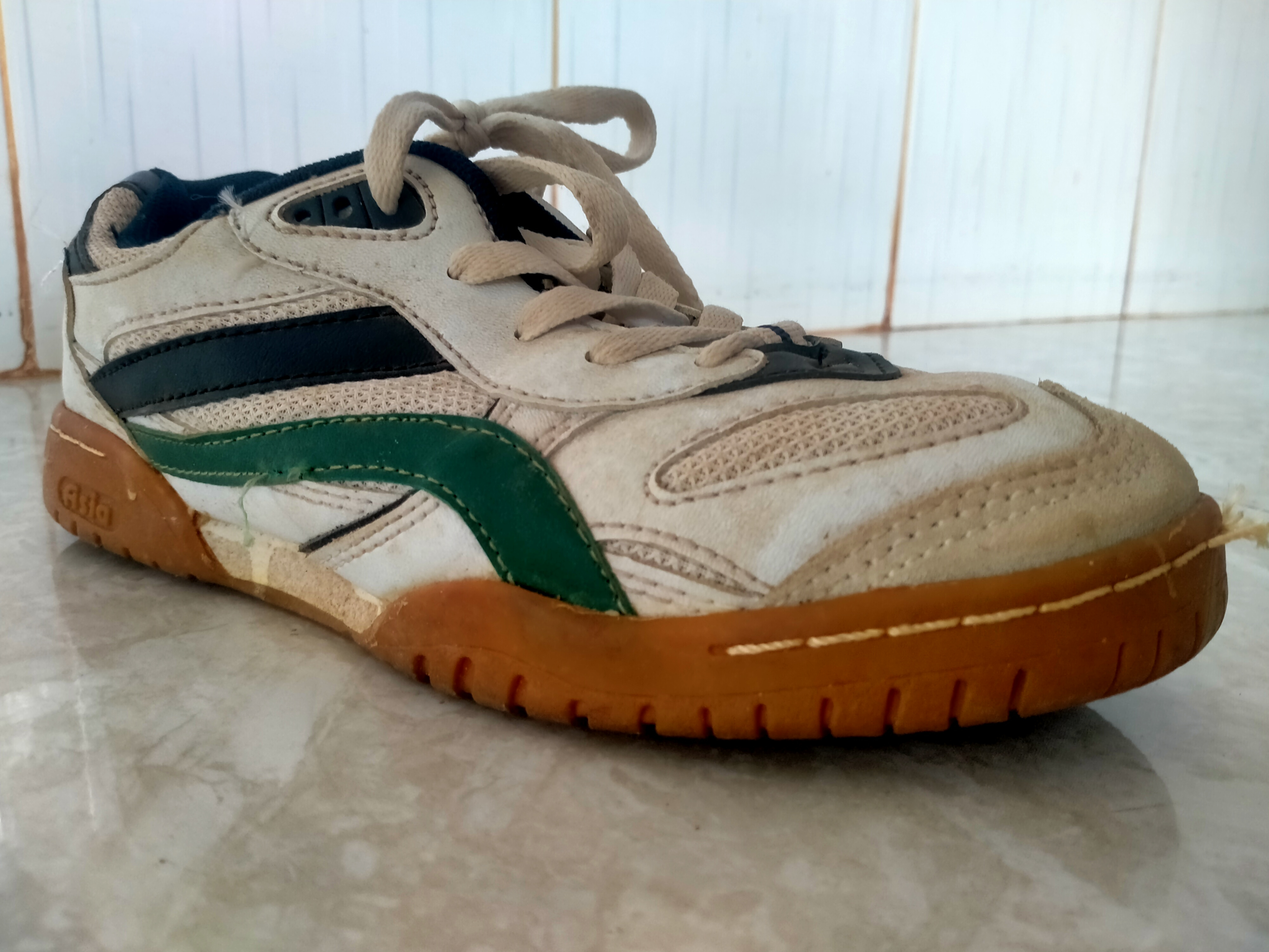broken: (259, 454, 334, 482)
